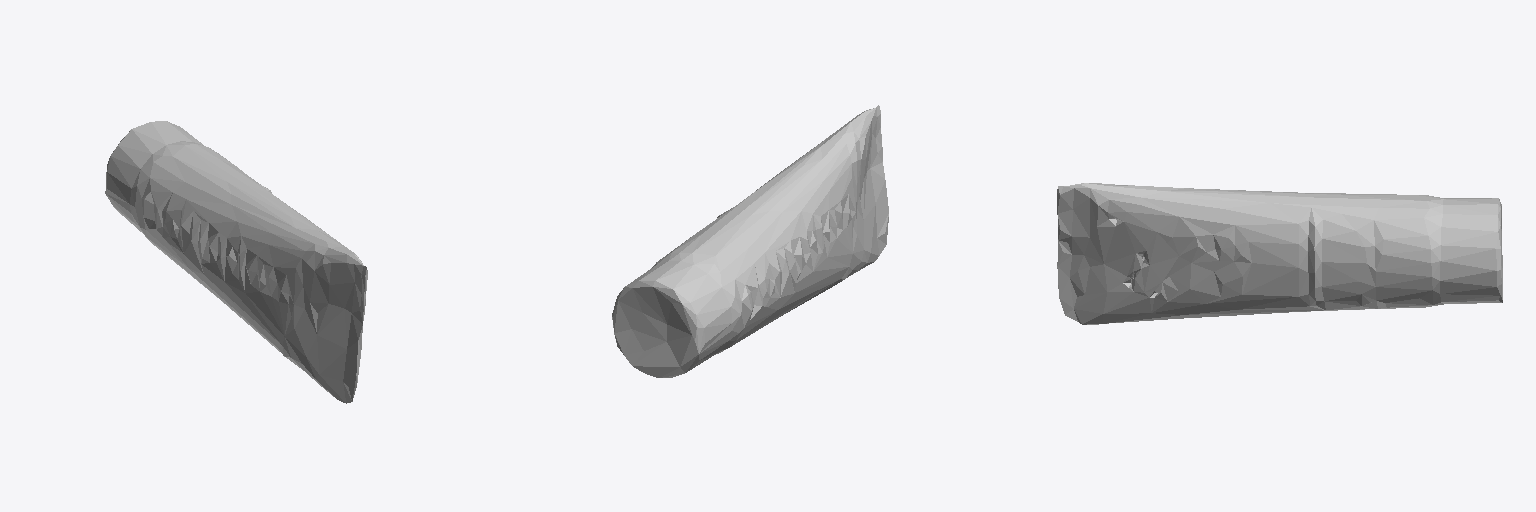
3 views of the same model, side by side, from view 1: azimuth 30°, elevation 25°; view 2: azimuth 150°, elevation 25°; view 3: azimuth 270°, elevation 25° (orthographic).
Visible parts, largest first — view 1: Toothpaste_800_tex; view 2: Toothpaste_800_tex; view 3: Toothpaste_800_tex.
Part boxes in pixels (x1,y1,x2,y2): Toothpaste_800_tex: (105,121,367,403); Toothpaste_800_tex: (612,105,888,377); Toothpaste_800_tex: (1057,183,1502,324).
Bounding box in the file's own units: 0.0311 × 0.045 × 0.1241.